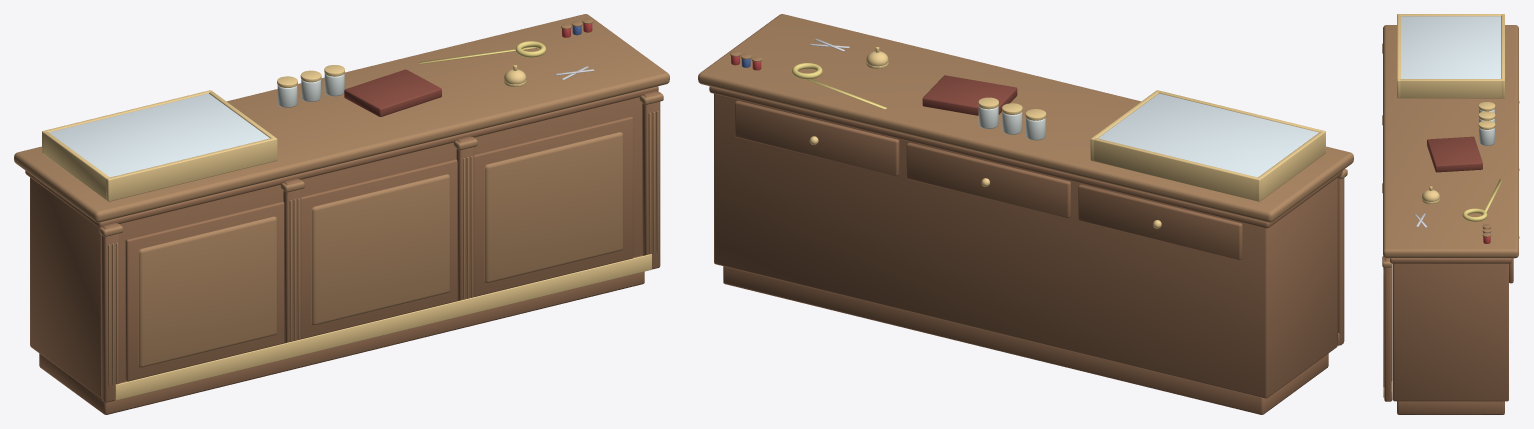
The model's file is v2_shop_counter.fbx.
3 renders of one model, left to right at view 1: azimuth 30°, elevation 25°; view 2: azimuth 150°, elevation 25°; view 3: azimuth 270°, elevation 25°, orthographic. The views are drawn at different scales.
Visible parts, largest first — view 1: Top, Body, Panel1, Panel2, Panel0, DisplayGlass, KickPlate, Plinth, PanelFrame2, PanelFrame0, PanelFrame1, DisplayFrameX-1 (+8 smaller); view 2: Body, Top, Plinth, DisplayGlass, Drawer0, Drawer1, Drawer2, TopMoulding, DisplayFrameX1, Ledger, DisplayFrameY-1, Pilaster0 (+1 smaller); view 3: Top, Body, DisplayGlass, DisplayFrameY1, Ledger, Plinth, Pilaster3, TopMoulding, DisplayFrameX-1, DisplayFrameX1, DisplayFrameY-1, ButtonJar2 (+7 smaller).
Part boxes in pixels (bbox=[...]): Top: bbox=[14, 14, 669, 222]; Body: bbox=[30, 97, 642, 398]; Panel1: bbox=[311, 174, 450, 325]; Panel2: bbox=[484, 132, 623, 283]; Panel0: bbox=[138, 216, 277, 367]; DisplayGlass: bbox=[49, 93, 269, 177]; KickPlate: bbox=[115, 254, 651, 400]; Plinth: bbox=[39, 271, 644, 414]; PanelFrame2: bbox=[474, 116, 633, 296]; PanelFrame0: bbox=[125, 201, 284, 381]; PanelFrame1: bbox=[301, 159, 457, 339]; DisplayFrameX-1: bbox=[106, 137, 276, 201]; Body: bbox=[714, 93, 1337, 398]; Top: bbox=[698, 14, 1353, 222]; Plinth: bbox=[723, 266, 1328, 414]; DisplayGlass: bbox=[1098, 93, 1318, 177]; Drawer0: bbox=[1078, 184, 1242, 259]; Drawer1: bbox=[906, 142, 1070, 217]; Drawer2: bbox=[735, 100, 899, 176]; TopMoulding: bbox=[709, 86, 1342, 228]; DisplayFrameX1: bbox=[1091, 138, 1261, 201]; Ledger: bbox=[922, 75, 1017, 115]; DisplayFrameY-1: bbox=[1256, 131, 1325, 201]; Pilaster0: bbox=[1338, 169, 1344, 345]; Top: bbox=[1383, 25, 1518, 258]; Body: bbox=[1393, 263, 1508, 401]; DisplayGlass: bbox=[1401, 16, 1500, 78]; DisplayFrameY1: bbox=[1397, 79, 1504, 98]; Ledger: bbox=[1427, 136, 1482, 172]; Plinth: bbox=[1397, 401, 1504, 414]; Pilaster3: bbox=[1384, 258, 1391, 401]; TopMoulding: bbox=[1390, 258, 1511, 263]; DisplayFrameX-1: bbox=[1397, 14, 1400, 98]; DisplayFrameX1: bbox=[1501, 14, 1504, 98]; DisplayFrameY-1: bbox=[1397, 14, 1504, 16]; ButtonJar2: bbox=[1479, 128, 1494, 145].
Bounding box in the file's own units: 2.68 × 1.06 × 0.686.
